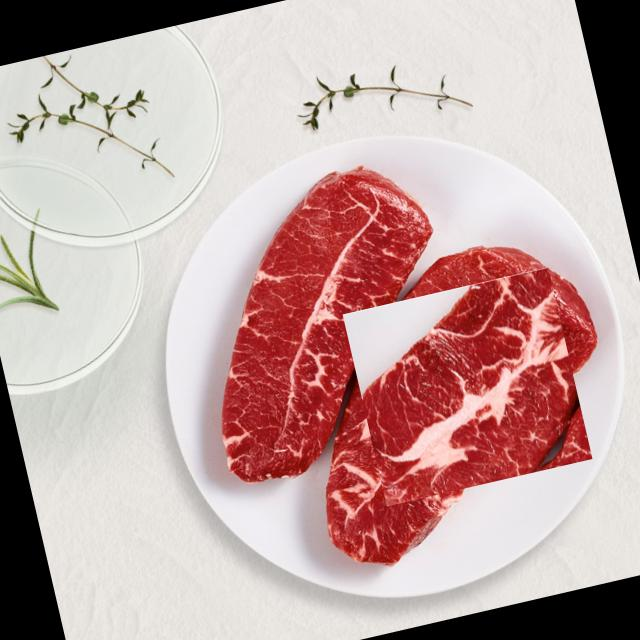beef: (342, 266, 593, 506)
